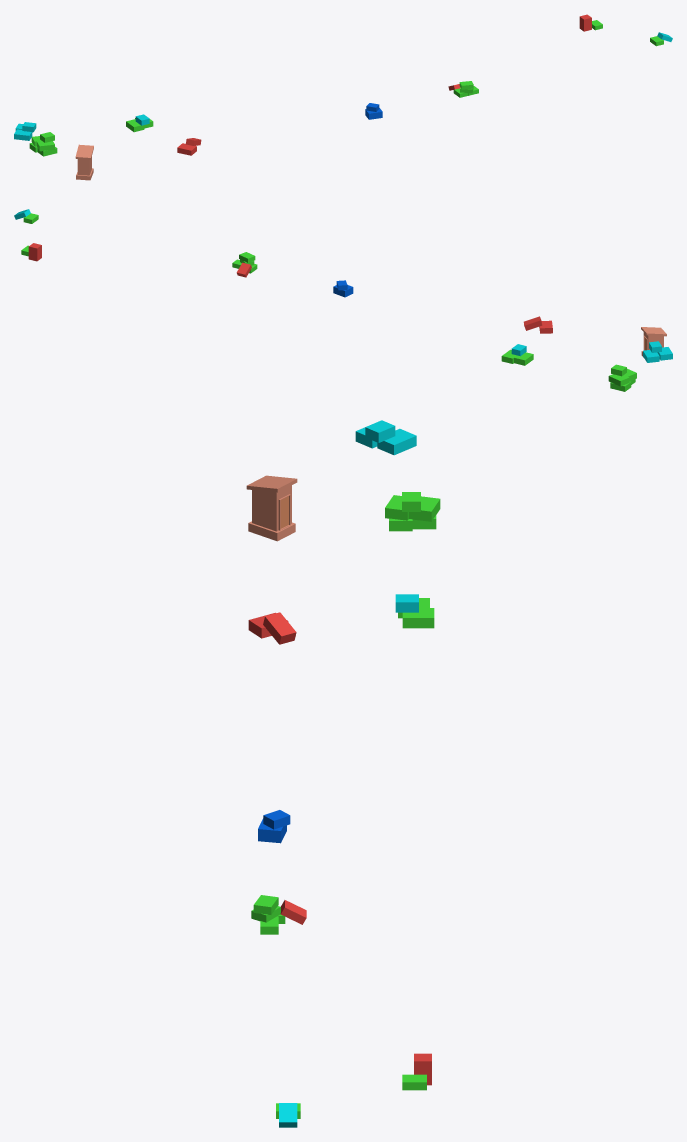
Rendered from boxes.fbx.
The picture shows the model from 3 angles, top to bottom: view 1: azimuth 30°, elevation 25°; view 2: azimuth 150°, elevation 25°; view 3: azimuth 270°, elevation 25°; orthographic projection. The views are drawn at different scales.
Parts seen in each view (by area): view 1: door_5; view 2: door_5; view 3: door_5.
Part boxes in pixels (box(x1,y1,x2,y2)): door_5: box(75, 144, 93, 180); door_5: box(641, 327, 666, 357); door_5: box(246, 475, 297, 541).
Size of the model in its own units: 23009 by 1760 by 3045.
